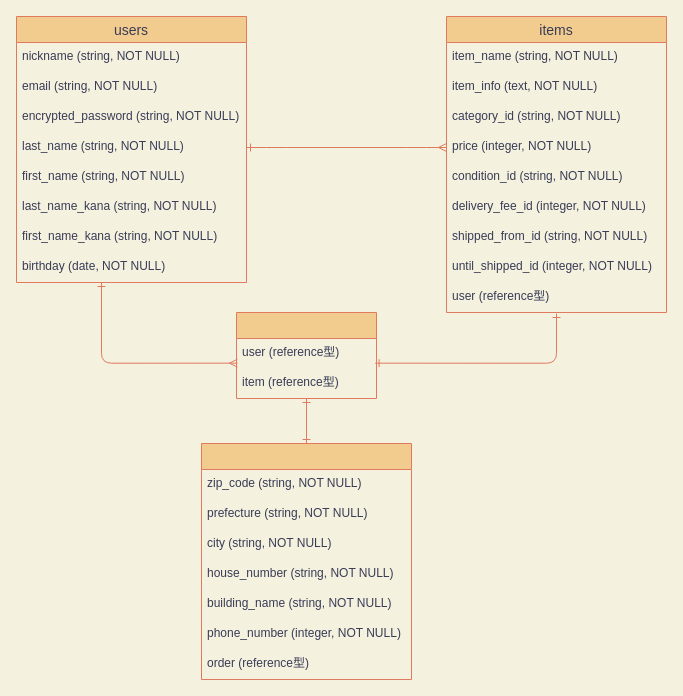
Some shapes in this 683 by 696 pixel diagram are drawn without their labels. The shapes that lost their labels are listed below. From the top down, each one's box as (x1, y1, x2, y2) in pixels, then its label:
(236, 312, 376, 398): orders
(200, 442, 412, 680): addresses
